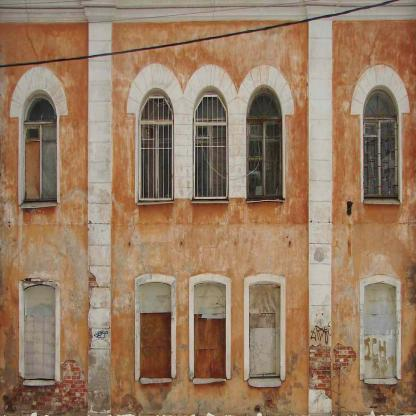Building Outline: (0, 0, 416, 416)
Facade: (0, 0, 415, 415)
Floor: (0, 0, 415, 235), (0, 249, 415, 415)
Floor Slab: (0, 235, 415, 248)
Pillar: (81, 0, 116, 416), (304, 0, 339, 416)
Sill: (140, 377, 172, 385), (247, 381, 281, 388), (23, 380, 55, 387), (193, 379, 226, 384), (364, 379, 397, 384)
Window: (363, 85, 400, 203), (246, 85, 283, 202), (192, 86, 229, 202), (21, 90, 57, 204), (138, 88, 174, 202), (194, 280, 226, 379), (365, 283, 397, 381), (249, 281, 280, 381), (140, 282, 171, 380), (24, 284, 55, 381)
